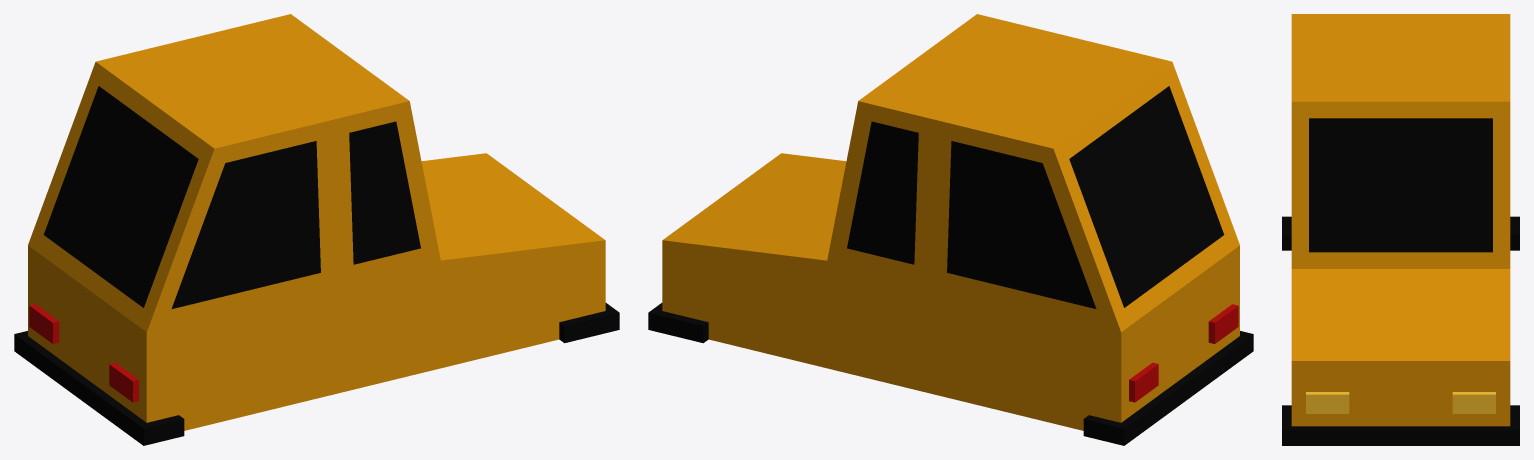
File: CityCar_Kombi_03.fbx
The picture shows the model from 3 angles, left to right: view 1: azimuth 30°, elevation 25°; view 2: azimuth 150°, elevation 25°; view 3: azimuth 270°, elevation 25°; orthographic projection. The views are drawn at different scales.
Visible parts, largest first — view 1: CityCar_Kombi_03; view 2: CityCar_Kombi_03; view 3: CityCar_Kombi_03.
Boxes of the visible parts, x1,y1,x2,y2 form: CityCar_Kombi_03: [14, 14, 619, 445]; CityCar_Kombi_03: [648, 14, 1253, 445]; CityCar_Kombi_03: [1282, 14, 1519, 445].
Bounding box in the file's own units: 0.4902 × 0.2706 × 0.2307.
